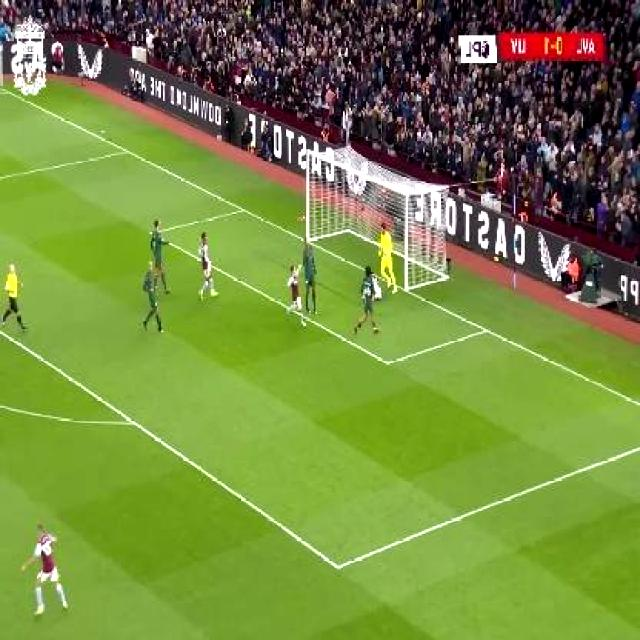bigarea_bottom_inner: (326, 548, 352, 583)
bigarea_top_outter: (118, 138, 137, 160)
bottom_arc_area_intersection: (122, 405, 146, 437)
corner: (0, 81, 12, 95)
smallarea_bottom_inner: (377, 344, 400, 378)
smallarea_bottom_outter: (477, 316, 498, 342)
smallarea_top_outter: (235, 197, 254, 220)
